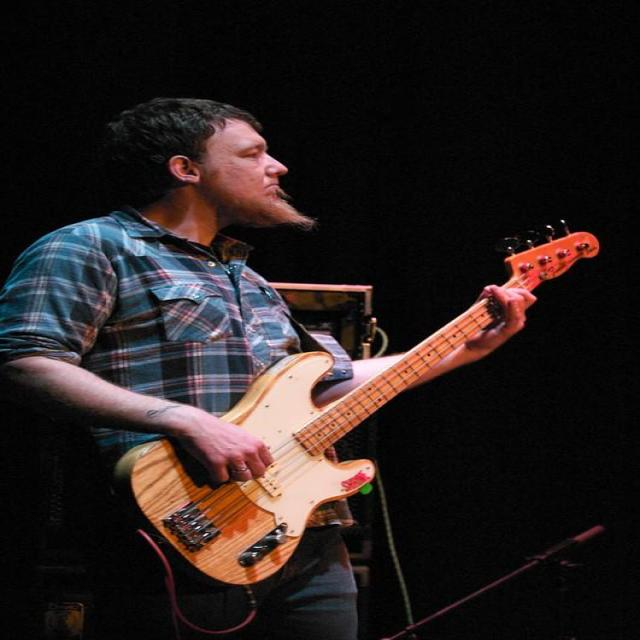bass: (117, 300, 496, 583)
